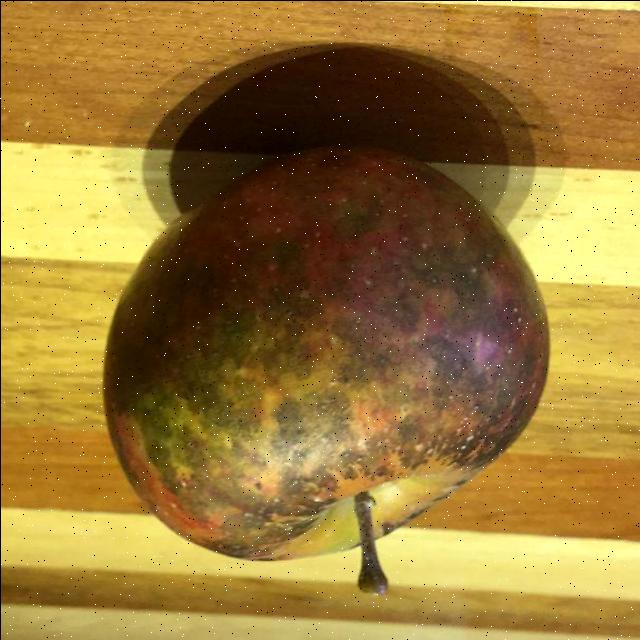BLOTCH: (72, 125, 565, 596)
